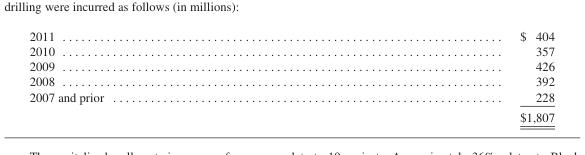table: (28, 28, 553, 123)
table column: (28, 28, 311, 123), (311, 28, 553, 123)
table row: (28, 88, 553, 106), (28, 106, 553, 123), (28, 28, 553, 43), (28, 43, 553, 58), (28, 58, 553, 73), (28, 73, 553, 88)
